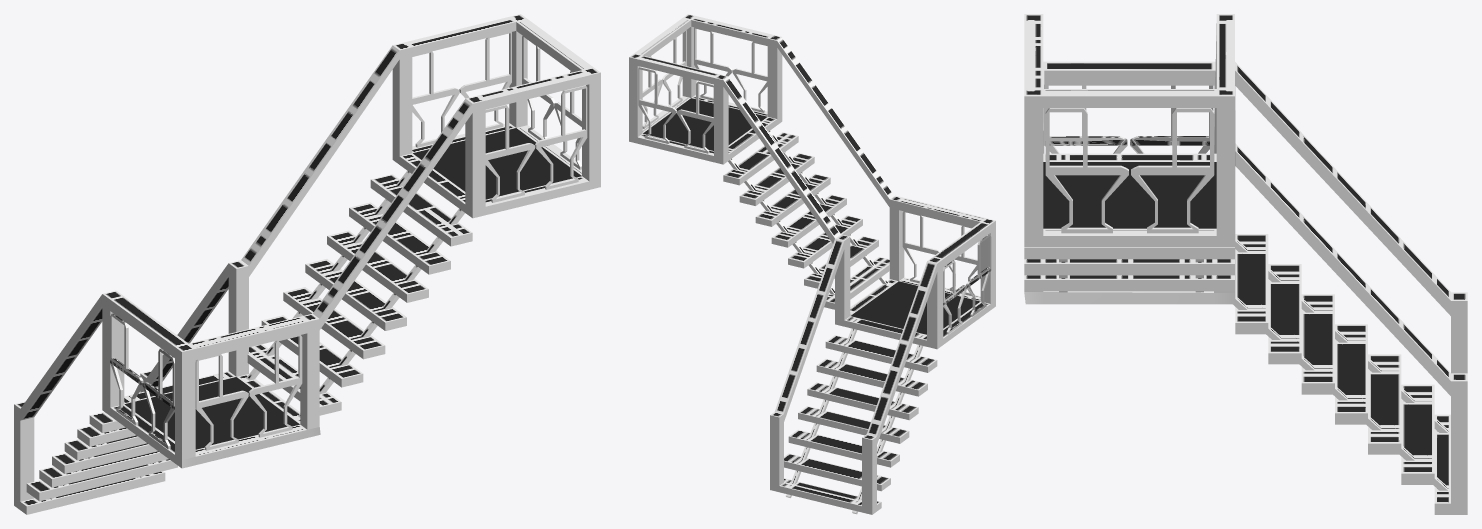
Rendered from FireEscapeGGJ.fbx.
3 renders of one model, left to right at view 1: azimuth 30°, elevation 25°; view 2: azimuth 150°, elevation 25°; view 3: azimuth 270°, elevation 25°, orthographic. The views are drawn at different scales.
Parts seen in each view (by area): view 1: stairs; view 2: stairs; view 3: stairs.
Boxes of the visible parts, x1,y1,x2,y2 form: stairs: (14, 14, 600, 514); stairs: (629, 14, 995, 514); stairs: (1024, 14, 1467, 514).
Bounding box in the file's own units: 19.18 × 20.16 × 13.35.
